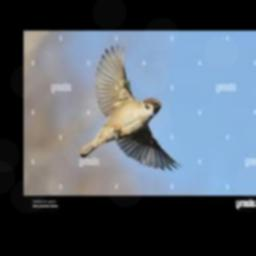Sparrow: (78, 44, 184, 171)
